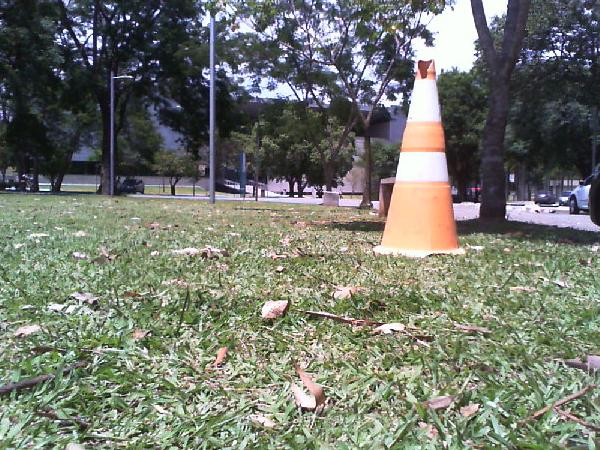0 cone: (373, 60, 466, 257)
